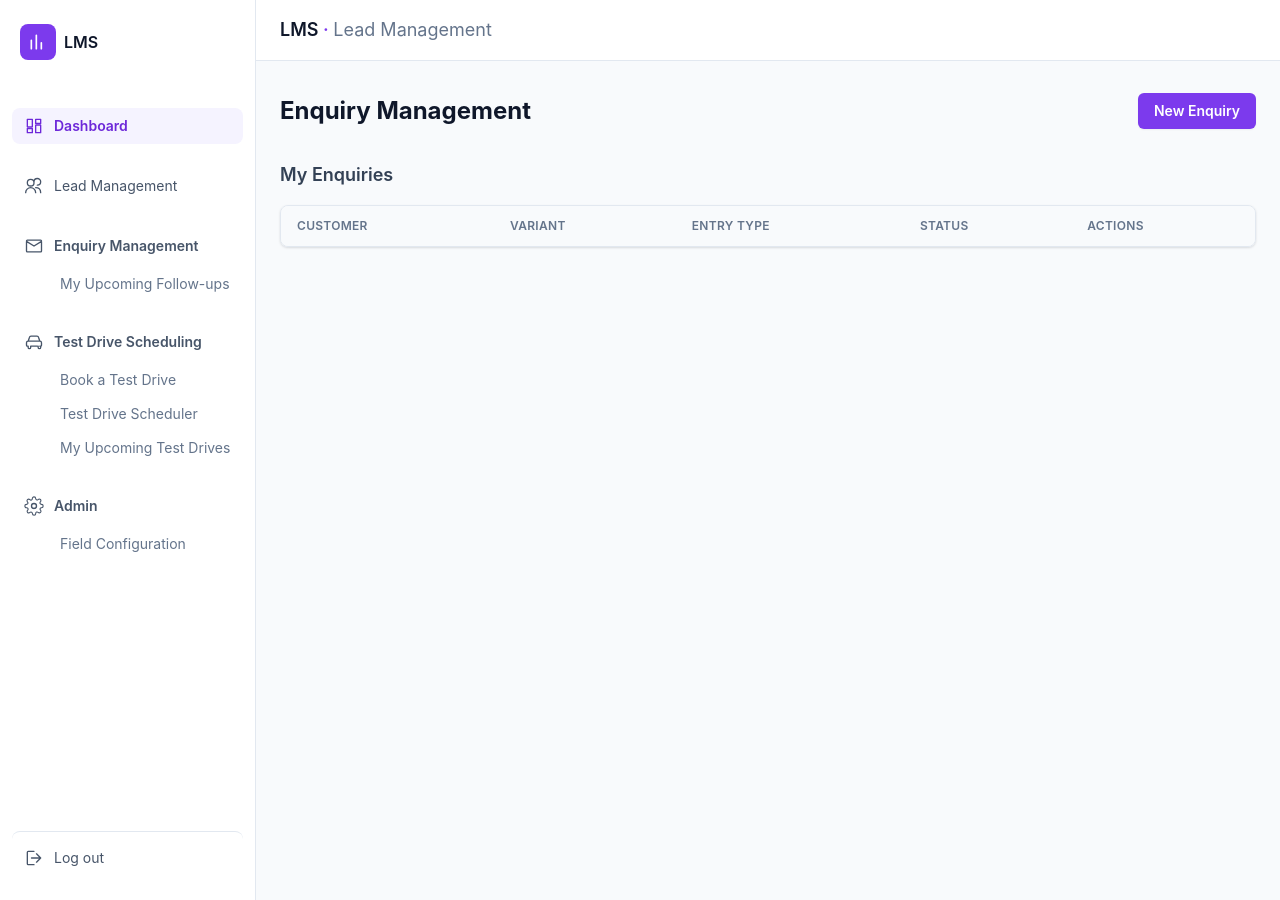
Scenario: EnquiryManagementPage (issue #130) › New Enquiry slide-over panel › closing via the close button removes the panel and leaves the page intact
Click the button "New Enquiry". click: point(1197, 111)
box: 1138,93 -> 1256,129
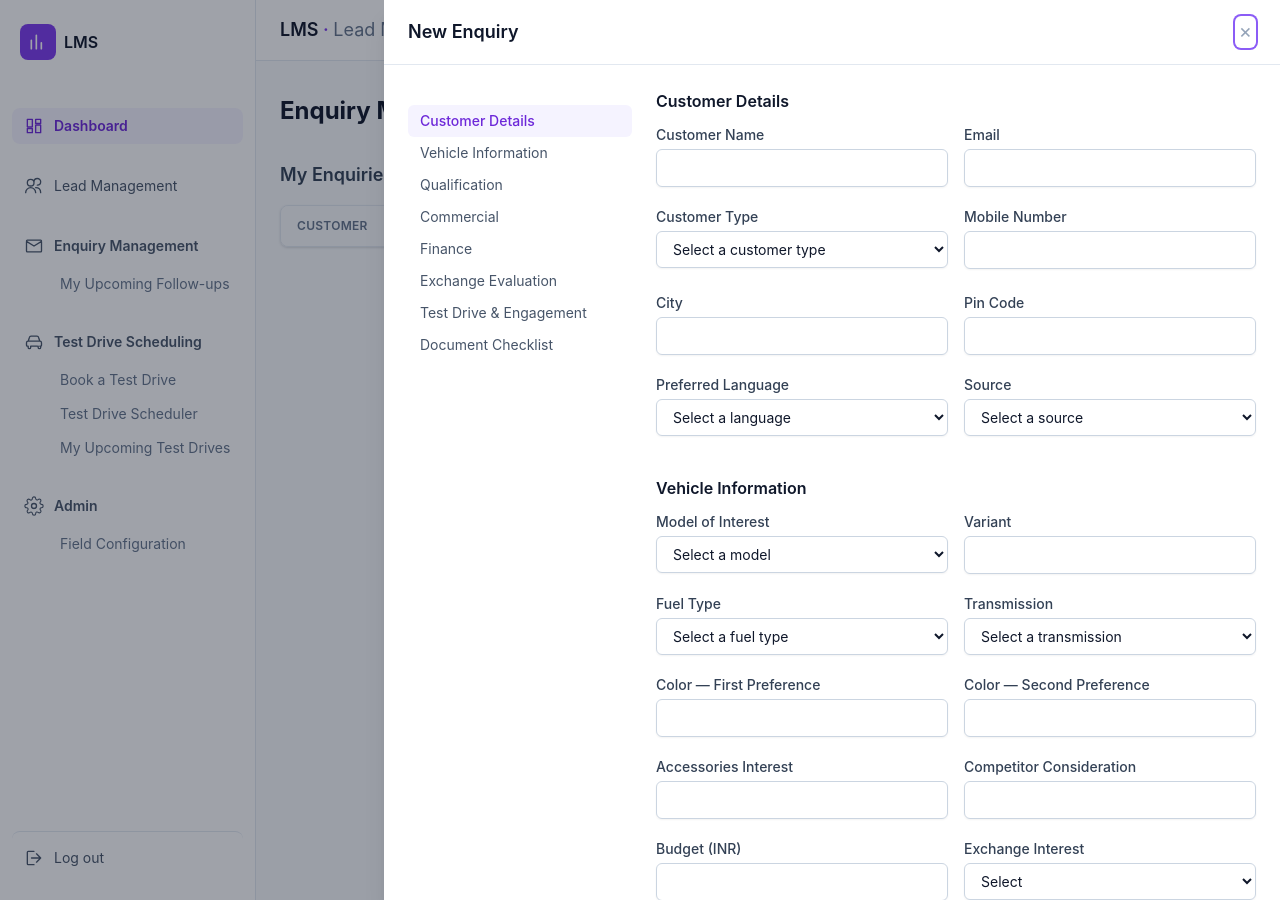
Result: the dialog "New Enquiry" is shown
Click the button named "close". click: point(1245, 32)
box: 1235,16 -> 1256,48
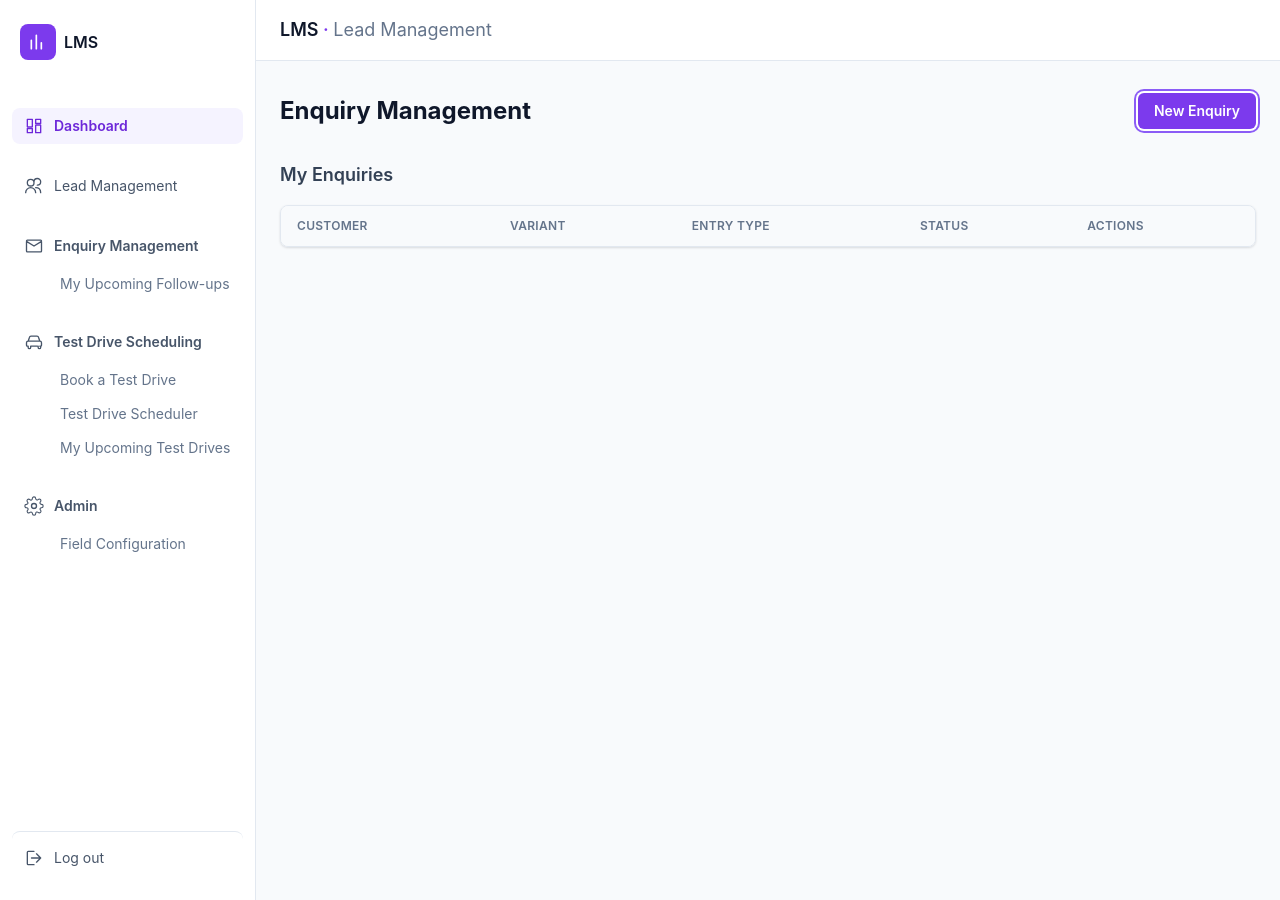
Expected: the heading "Enquiry Management" is shown, 280,95 -> 531,127
Result: the dialog is gone
